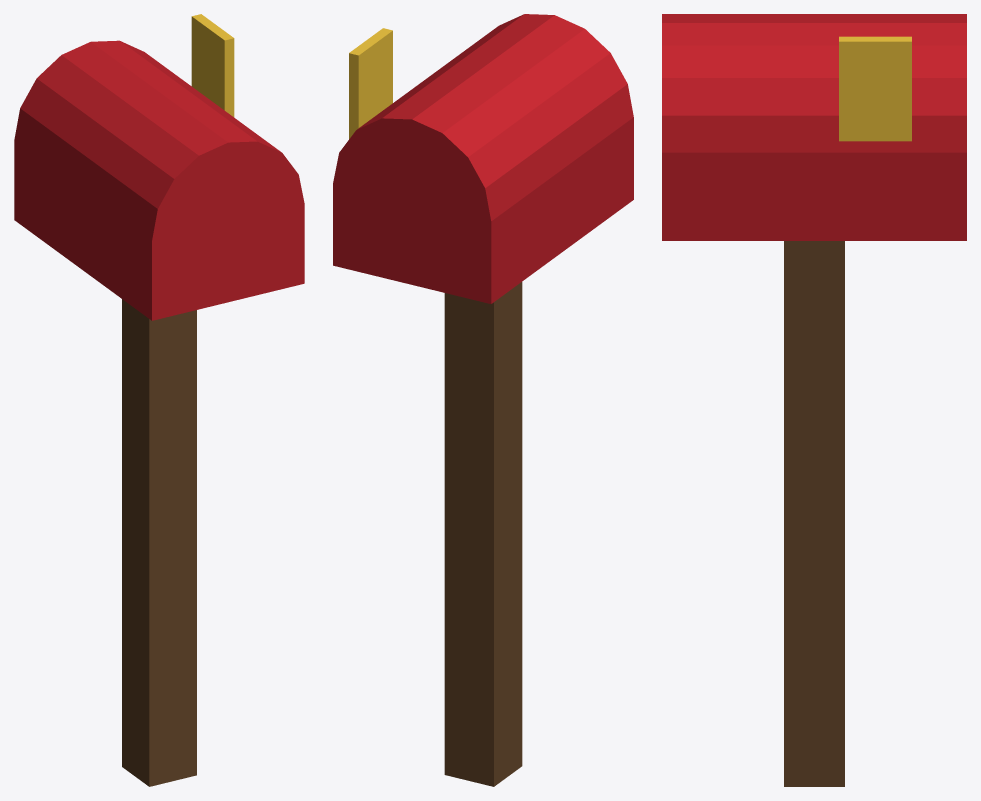
The model's file is briefkasten.glb.
The picture shows the model from 3 angles, left to right: view 1: azimuth 30°, elevation 25°; view 2: azimuth 150°, elevation 25°; view 3: azimuth 270°, elevation 25°; orthographic projection. The views are drawn at different scales.
Visible parts, largest first — view 1: kasten, pfosten, boden, flagge; view 2: kasten, pfosten, boden, flagge; view 3: kasten, pfosten, boden, flagge.
Boxes of the visible parts, x1=… form: kasten: x1=14, y1=40, x2=304, y2=302; pfosten: x1=122, y1=299, x2=196, y2=786; boden: x1=14, y1=140, x2=304, y2=320; flagge: x1=191, y1=14, x2=234, y2=117; kasten: x1=333, y1=14, x2=633, y2=285; pfosten: x1=444, y1=282, x2=522, y2=786; boden: x1=333, y1=117, x2=633, y2=303; flagge: x1=349, y1=28, x2=392, y2=138; kasten: x1=662, y1=14, x2=966, y2=152; pfosten: x1=784, y1=241, x2=844, y2=786; boden: x1=662, y1=152, x2=966, y2=240; flagge: x1=839, y1=36, x2=911, y2=141.
Bounding box in the file's own units: 0.34 × 1.41 × 0.5.
